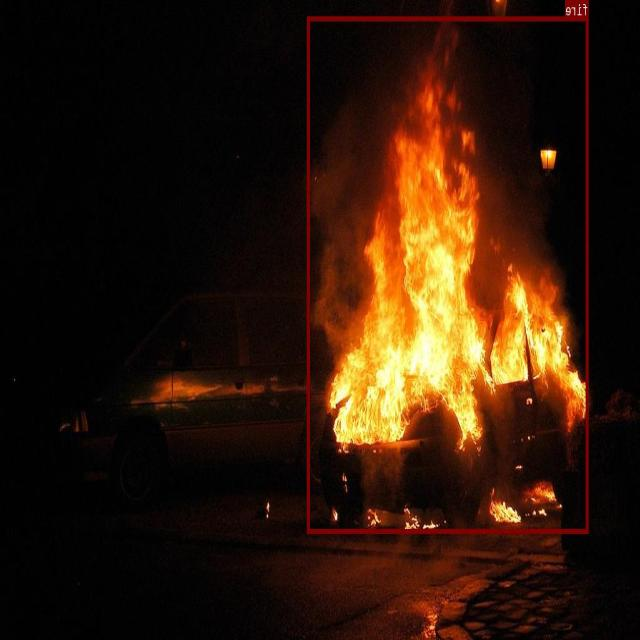fire: (308, 15, 589, 532)
